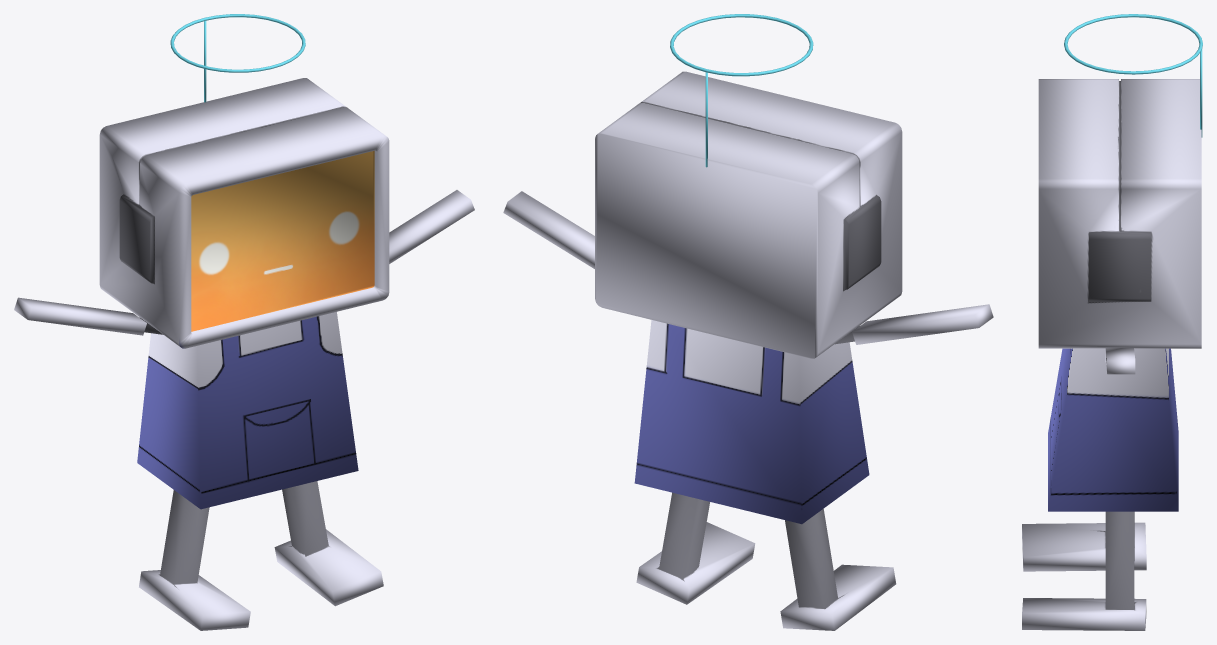
Rendered from robot.glb.
3 renders of one model, left to right at view 1: azimuth 30°, elevation 25°; view 2: azimuth 150°, elevation 25°; view 3: azimuth 270°, elevation 25°, orthographic. The views are drawn at different scales.
Parts seen in each view (by area): view 1: Cube; view 2: Cube; view 3: Cube.
Part boxes in pixels (x1,y1,x2,y2): Cube: (14,14,474,630); Cube: (503,14,993,630); Cube: (1022,14,1202,630).
Bounding box in the file's own units: 5.7 × 6.51 × 1.94.
Materials: 1 (1 with a texture image).
